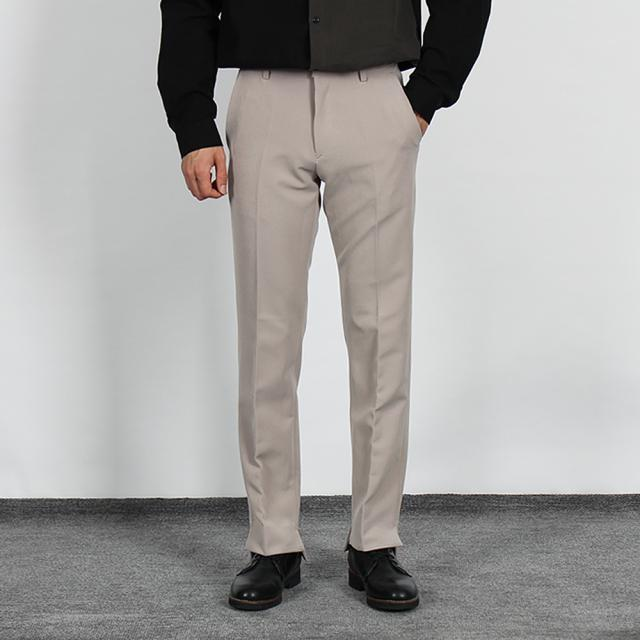pants: (226, 65, 424, 553)
